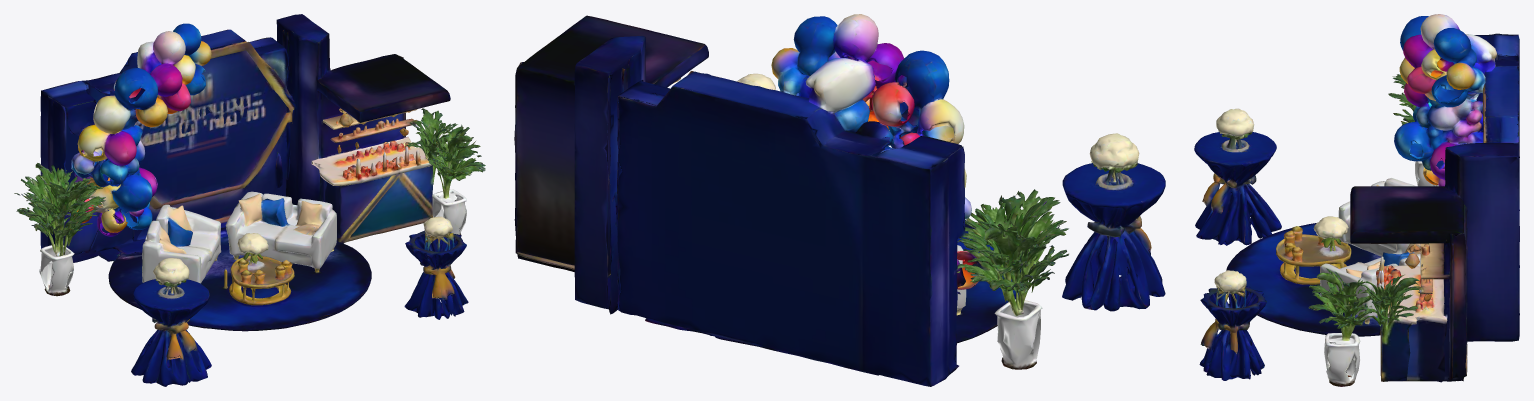
Rendered from corporate.glb.
The picture shows the model from 3 angles, left to right: view 1: azimuth 30°, elevation 25°; view 2: azimuth 150°, elevation 25°; view 3: azimuth 270°, elevation 25°; orthographic projection. The views are drawn at different scales.
Visible parts, largest first — view 1: world; view 2: world; view 3: world.
Part boxes in pixels (x1,y1,x2,y2): world: [14, 14, 485, 386]; world: [514, 14, 1165, 386]; world: [1194, 14, 1519, 386].
Bounding box in the file's own units: 0.9861 × 0.5695 × 0.6321.
1 material, 1 textured.
